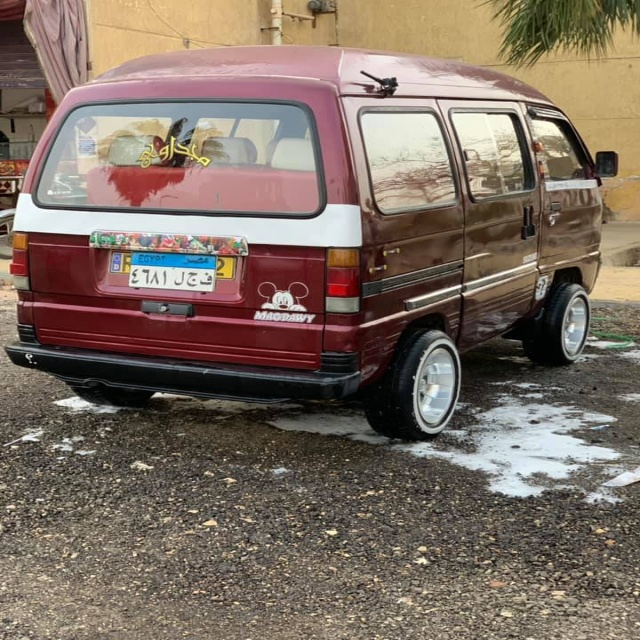License Plate: (128, 252, 216, 293)
